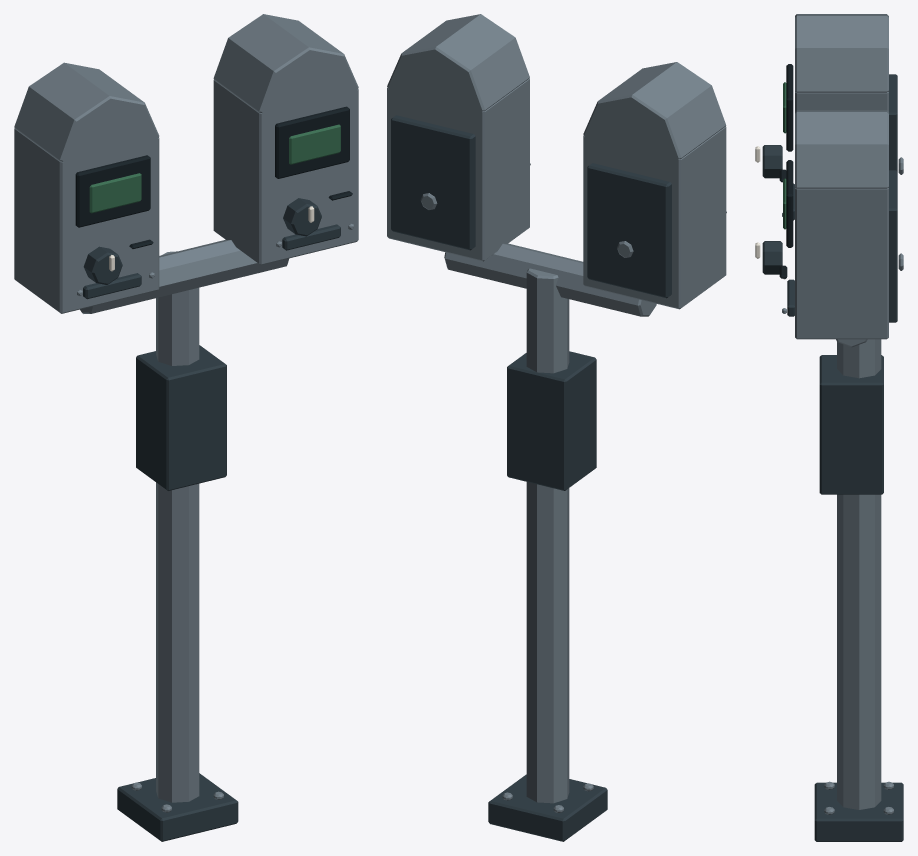
File: b02_dual_parking_meter.glb
3 renders of one model, left to right at view 1: azimuth 30°, elevation 25°; view 2: azimuth 150°, elevation 25°; view 3: azimuth 270°, elevation 25°, orthographic.
Parts seen in each view (by area): view 1: b02_dual_parking_meter; view 2: b02_dual_parking_meter; view 3: b02_dual_parking_meter.
Boxes of the visible parts, x1,y1,x2,y2 form: b02_dual_parking_meter: [14, 14, 358, 841]; b02_dual_parking_meter: [387, 14, 726, 841]; b02_dual_parking_meter: [755, 14, 903, 841].
Bounding box in the file's own units: 0.69 × 1.7 × 0.3002.
